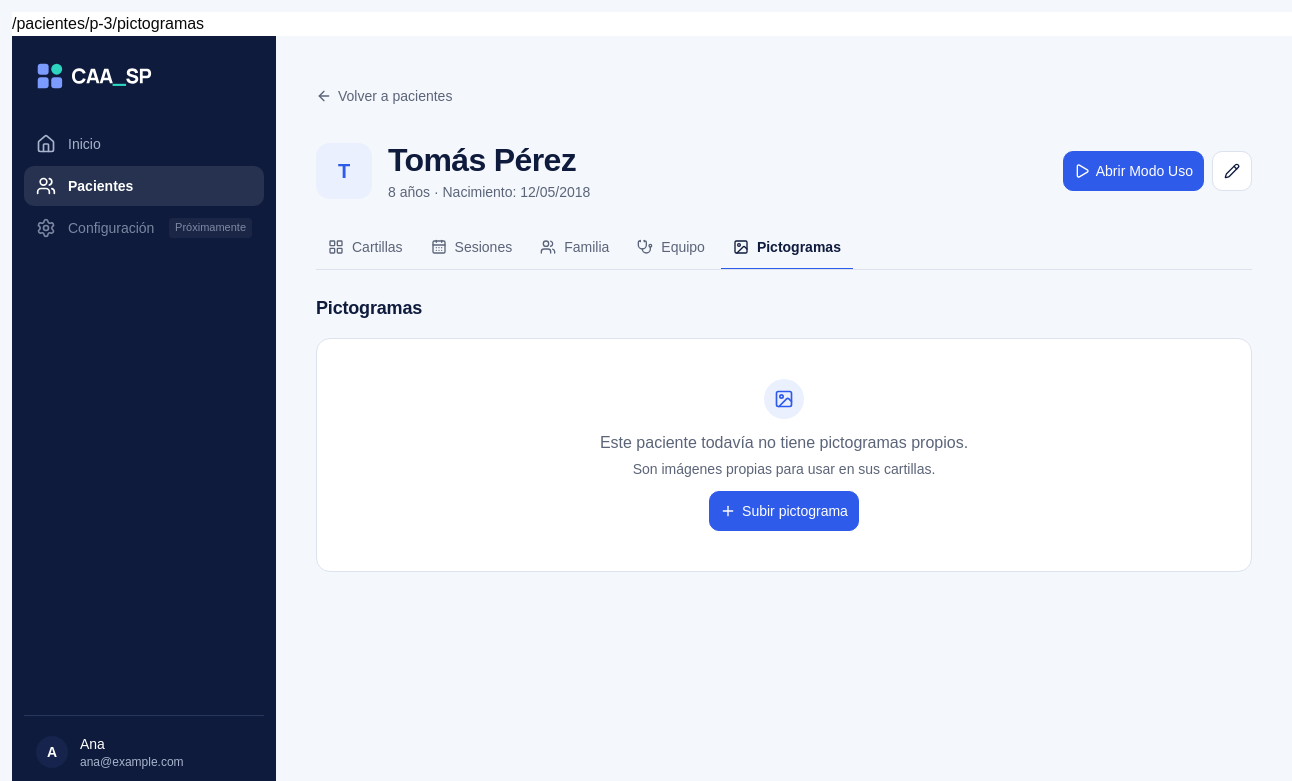
it: CustomPictogramsPage › offers the first upload from the empty state, once, only to whoever can upload
Click the button "Subir pictograma".
click(784, 511)  # box [709,491,859,531]
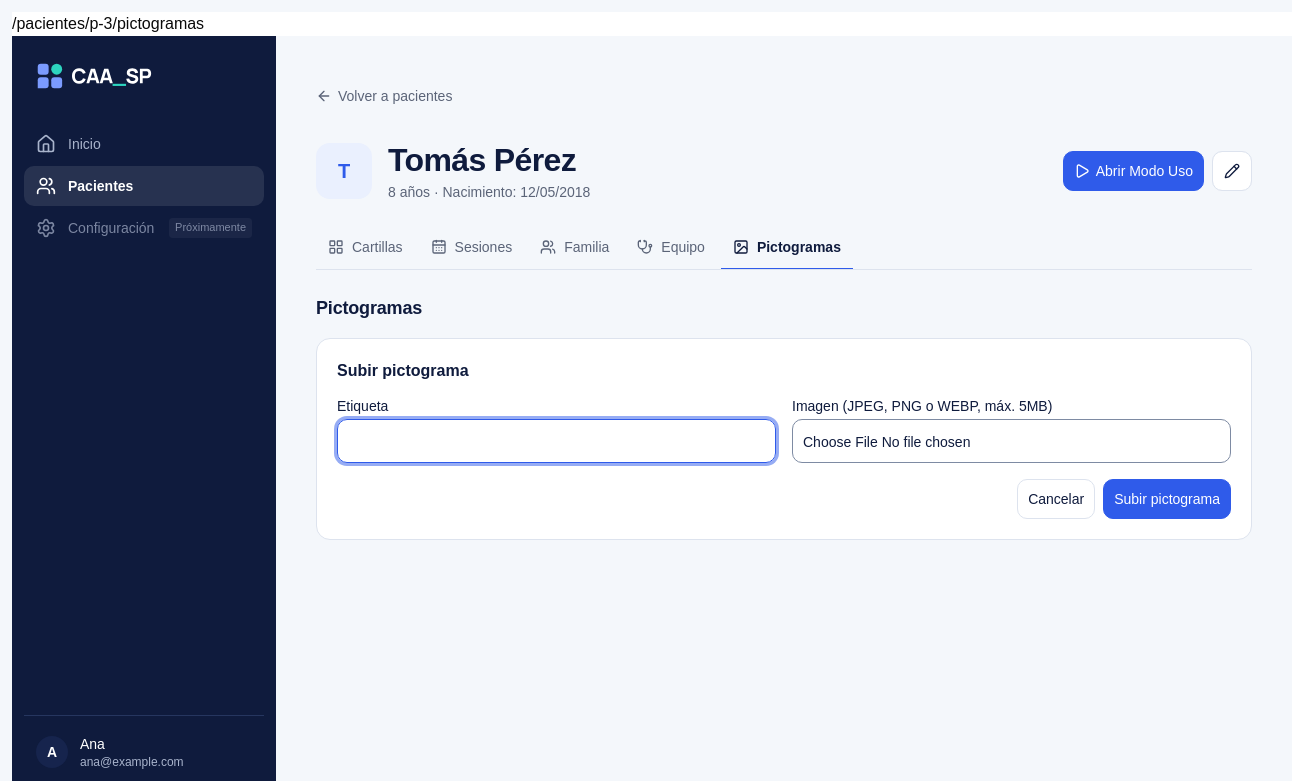
Expected: the field labelled "Etiqueta" is shown, [337,419,776,463]
